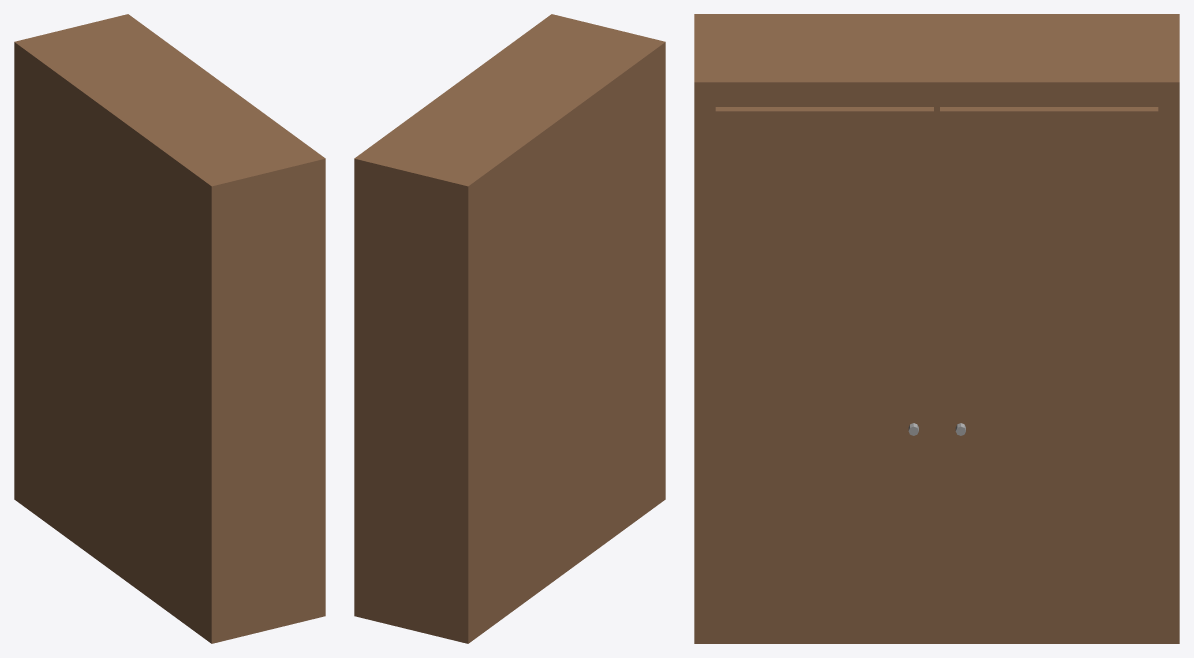
The model's file is Closet_1.fbx.
The picture shows the model from 3 angles, left to right: view 1: azimuth 30°, elevation 25°; view 2: azimuth 150°, elevation 25°; view 3: azimuth 270°, elevation 25°; orthographic projection. The views are drawn at different scales.
Visible parts, largest first — view 1: pCube1; view 2: pCube1; view 3: pCylinder3, pCube1.
Part boxes in pixels (x1,y1,x2,y2): pCube1: [14, 14, 325, 643]; pCube1: [354, 14, 665, 643]; pCylinder3: [715, 107, 1158, 623]; pCube1: [694, 14, 1179, 643].
Bounding box in the file's own units: 0.0067 × 0.023 × 0.018.
